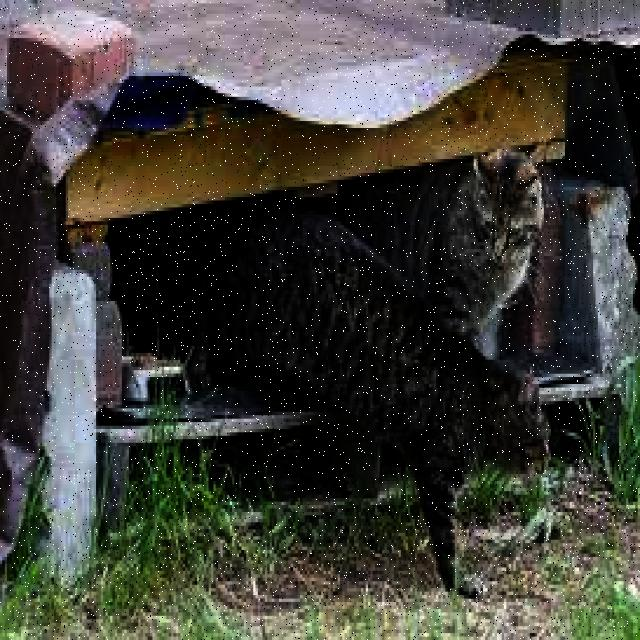cat: (189, 210, 549, 597), (340, 149, 544, 337)
